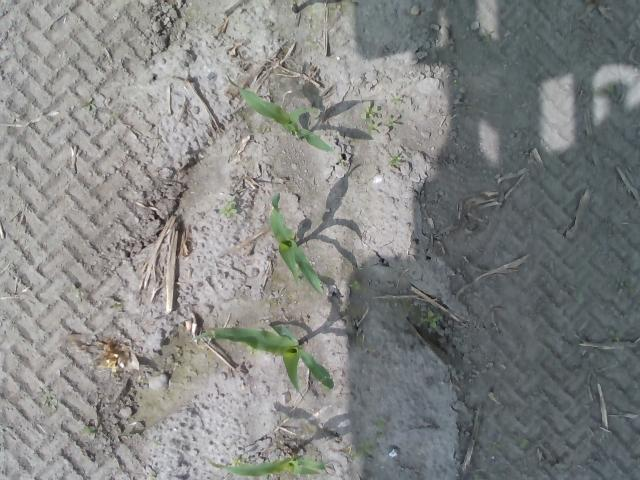Maize: (190, 325, 336, 399), (236, 89, 334, 153), (267, 192, 323, 296), (210, 456, 330, 478)
Weeds: (362, 104, 398, 137), (422, 310, 441, 330), (356, 438, 372, 458), (221, 202, 238, 218), (388, 152, 402, 166), (350, 281, 360, 290)
